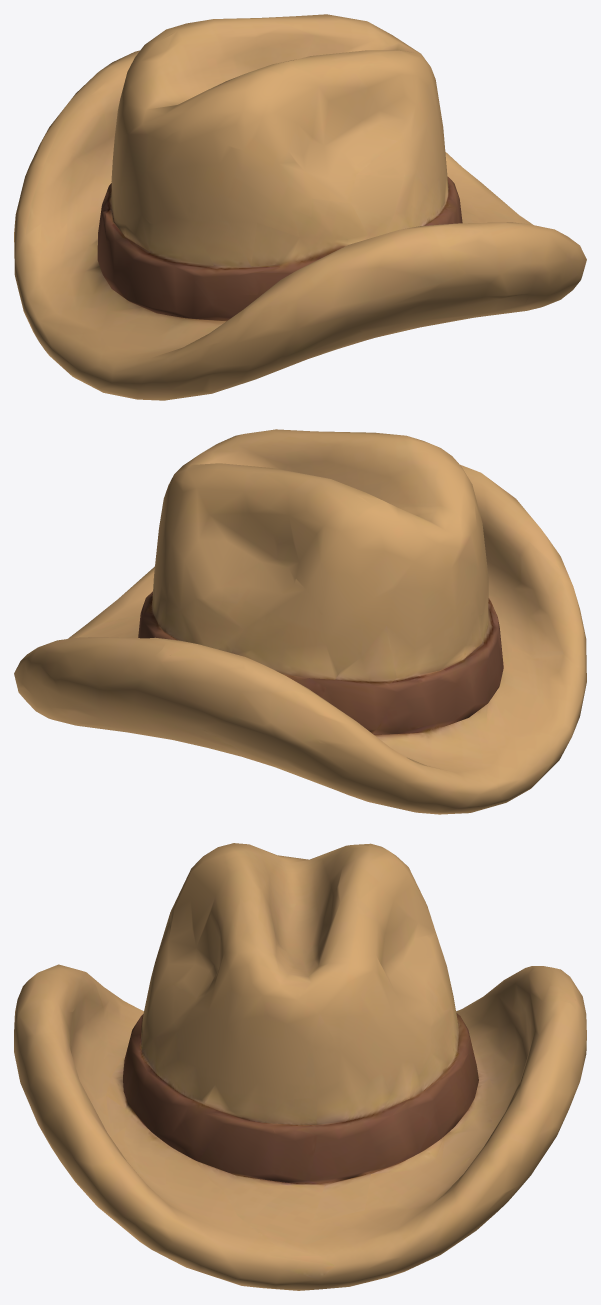
Rendered from hat-cowboy.glb.
The picture shows the model from 3 angles, top to bottom: view 1: azimuth 30°, elevation 25°; view 2: azimuth 150°, elevation 25°; view 3: azimuth 270°, elevation 25°; orthographic projection. The views are drawn at different scales.
Parts seen in each view (by area): view 1: tripo_node_71d2bdc3-9846-4a33-b406-23bb5bcb7a38; view 2: tripo_node_71d2bdc3-9846-4a33-b406-23bb5bcb7a38; view 3: tripo_node_71d2bdc3-9846-4a33-b406-23bb5bcb7a38.
Boxes of the visible parts, <box> form: tripo_node_71d2bdc3-9846-4a33-b406-23bb5bcb7a38: <box>14,14,586,400</box>; tripo_node_71d2bdc3-9846-4a33-b406-23bb5bcb7a38: <box>14,429,586,814</box>; tripo_node_71d2bdc3-9846-4a33-b406-23bb5bcb7a38: <box>14,843,586,1290</box>.
Bounding box in the file's own units: 0.9796 × 0.5863 × 1.
1 material, 1 textured.
